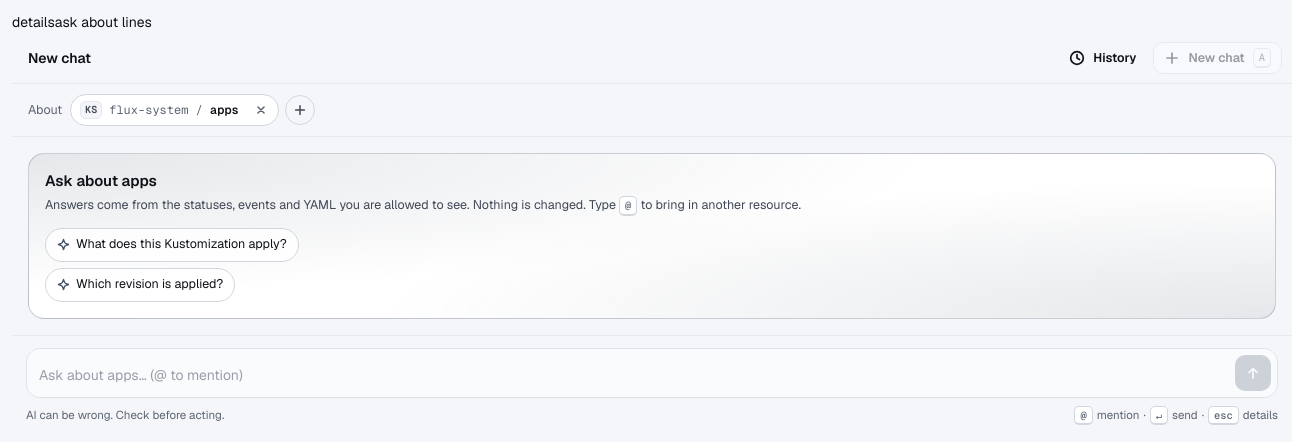
Ask AI chats › answer actions › saves the answer as a thread on the first context entry
In the dropdown named "Ask AI": (633, 374) [39, 358, 1227, 390], type "why is it slow?"
Then press Enter
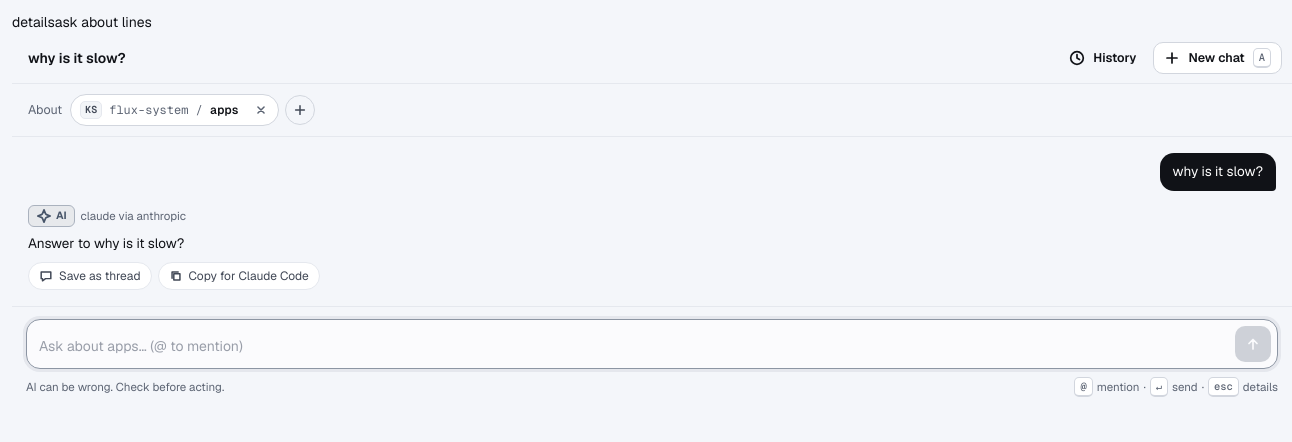
Expected: the text "Answer to why is it slow?" is shown, [28, 234, 184, 252]
Click the button "Save as thread": (90, 276) [28, 262, 152, 290]
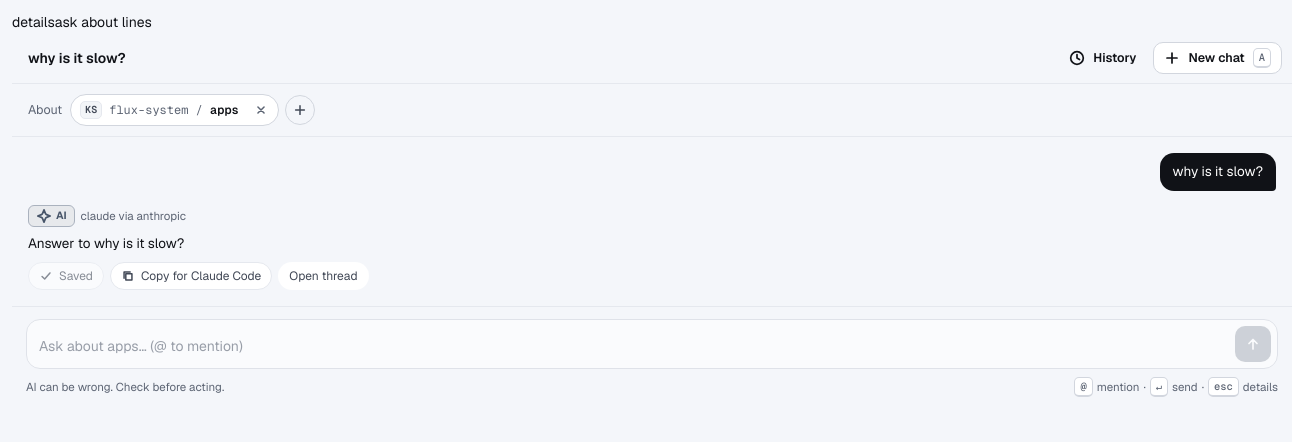
Expected: the 1st text "why is it slow?" is shown, [28, 48, 126, 68]
Expected: the button "Saved" is disabled, [28, 262, 104, 290]
